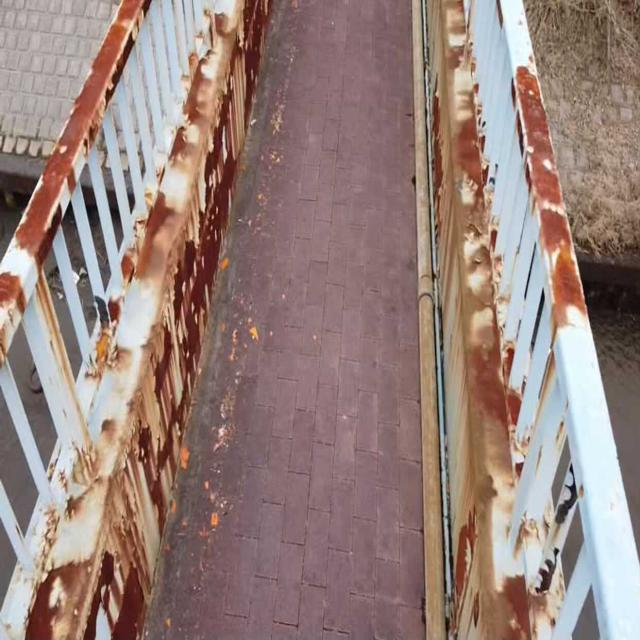corrosion: (16, 23, 270, 640), (406, 54, 604, 606)
